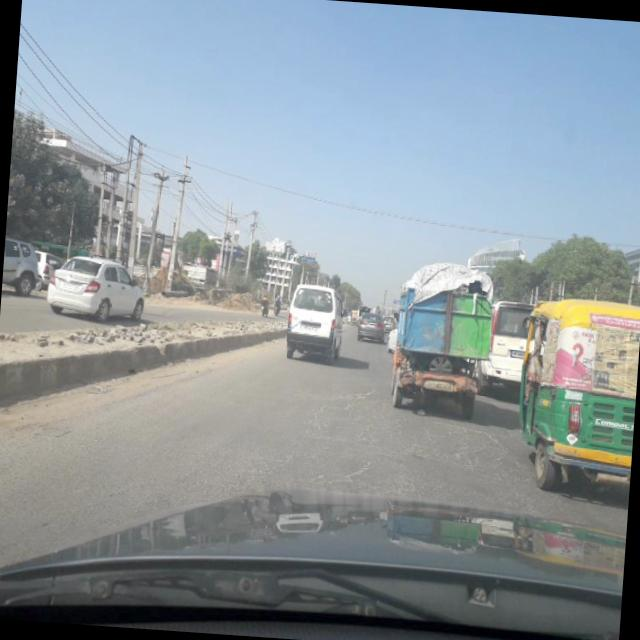crack: (206, 392, 523, 503)
